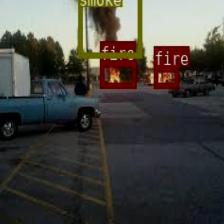fire: (100, 60, 135, 88), (153, 66, 178, 87)
smoke: (77, 0, 142, 57)
